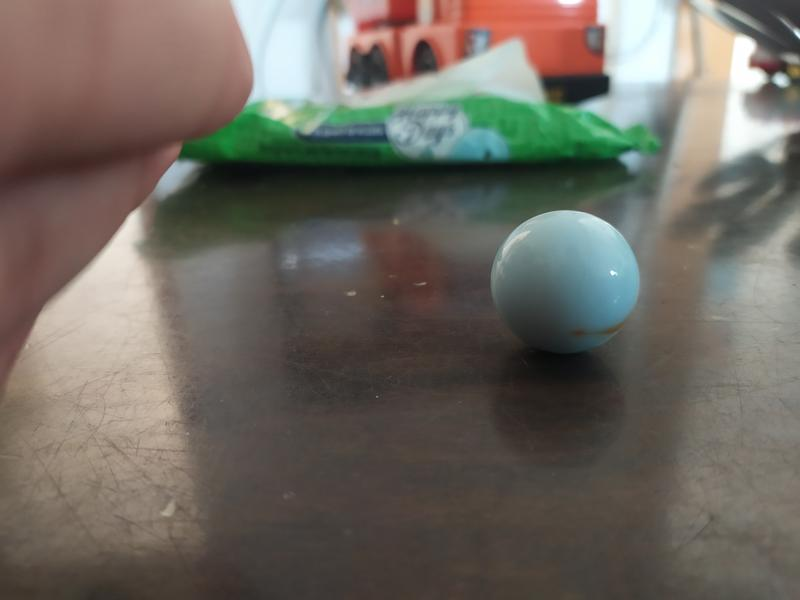Warning: (487, 207, 645, 359)
